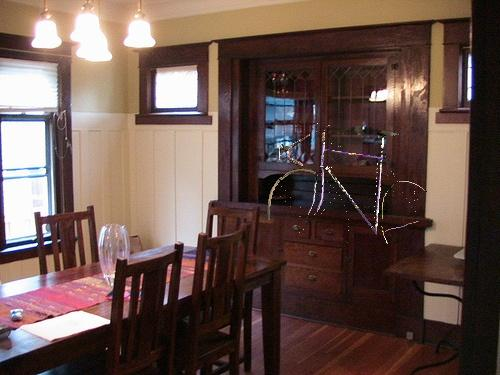tampered: (268, 124, 440, 253)
